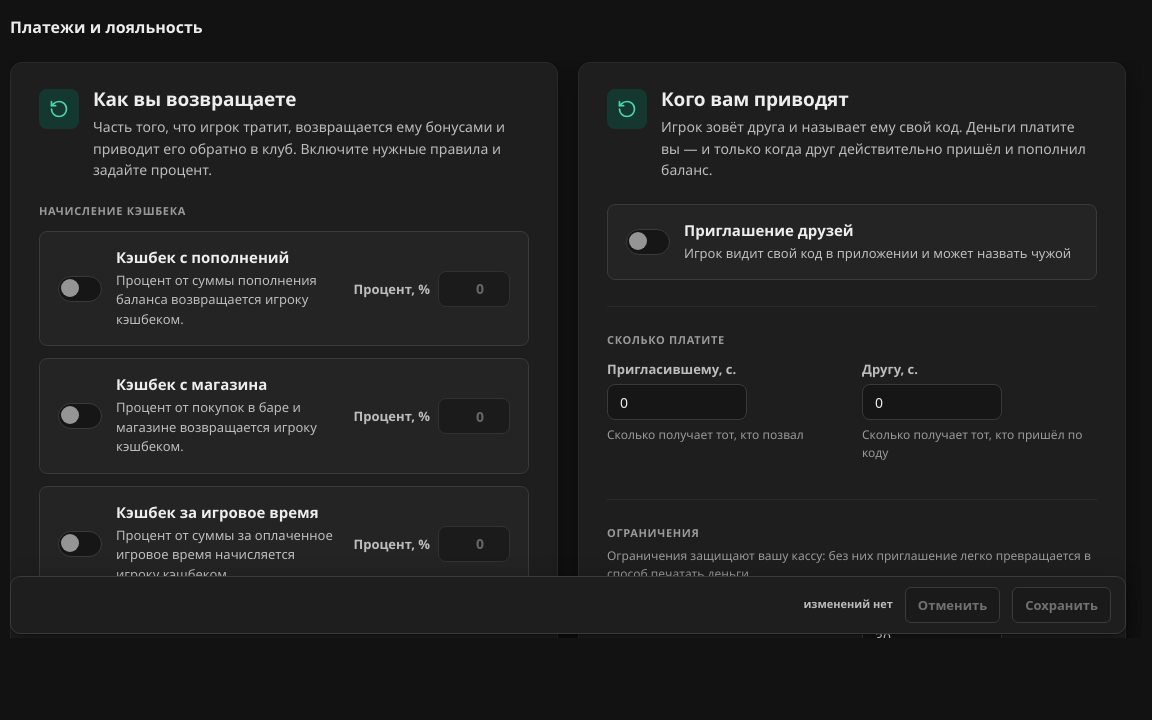
Test case: PaymentsLoyaltyDestination (одна страница, без табов) › shows a live accrual example when a rule is enabled
Click the checkbox named "кэшбек с пополнений" at (80, 289), box [58, 276, 102, 302]
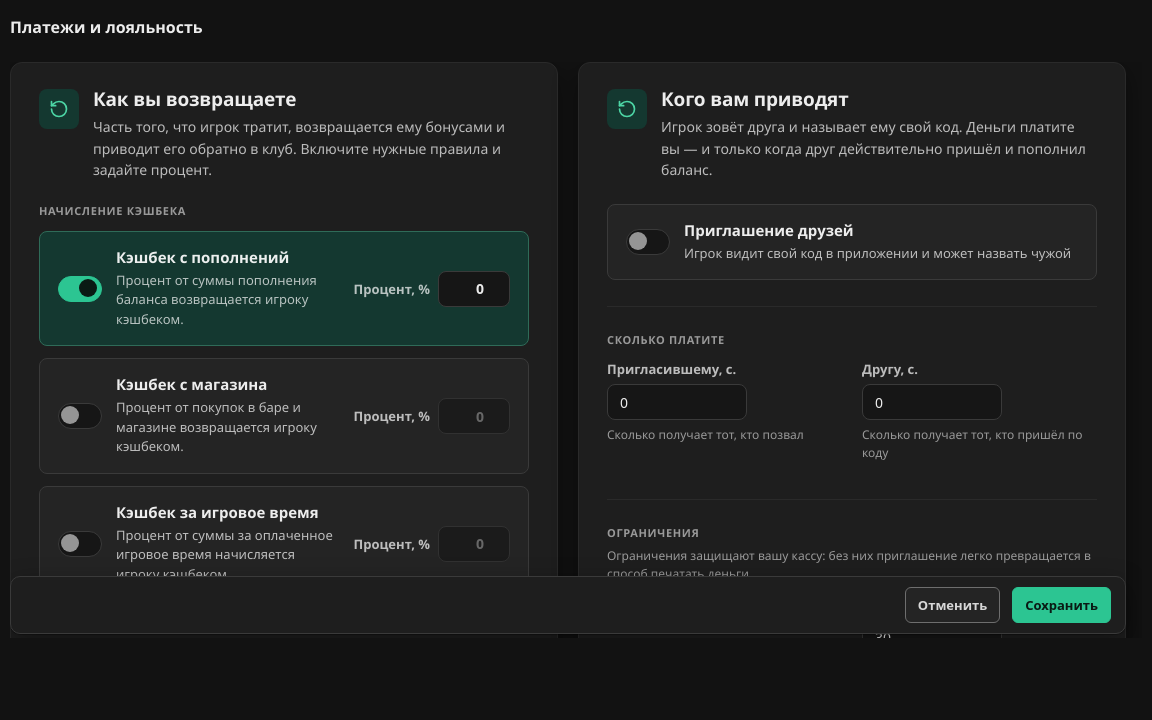
Replace the text in the number field named "процент с пополнений" with "10" at (474, 289), box [438, 271, 510, 307]
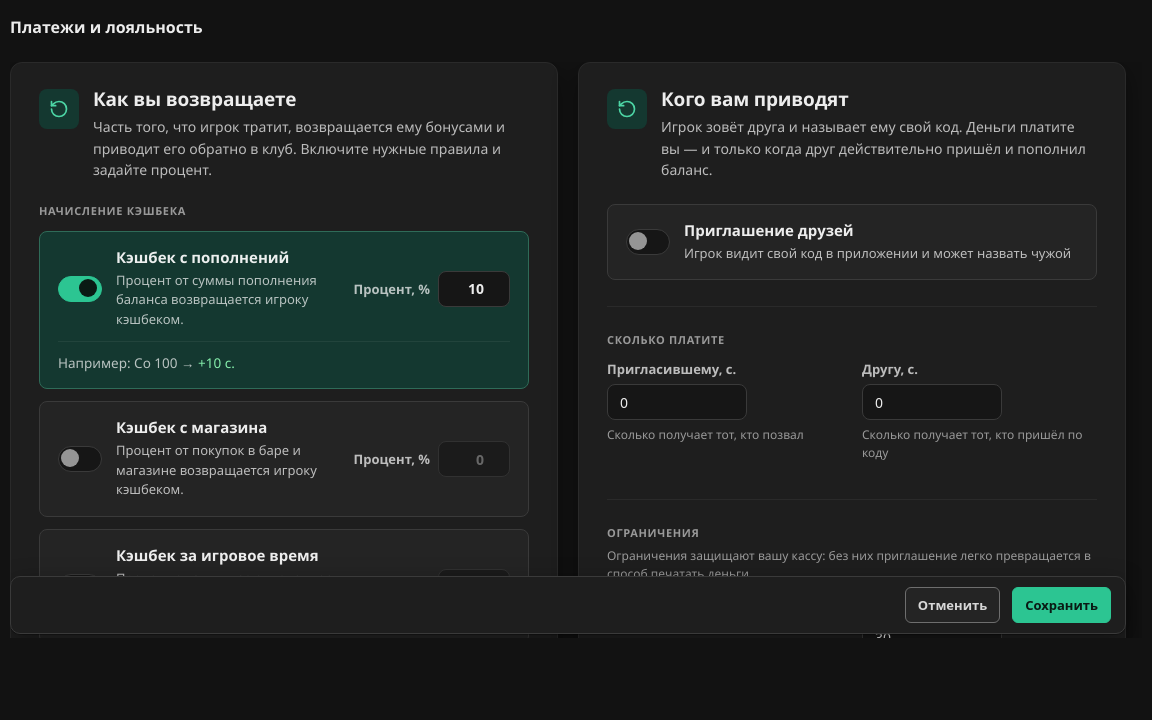
Check: the text "+10 с." is shown, box [198, 354, 235, 372]
